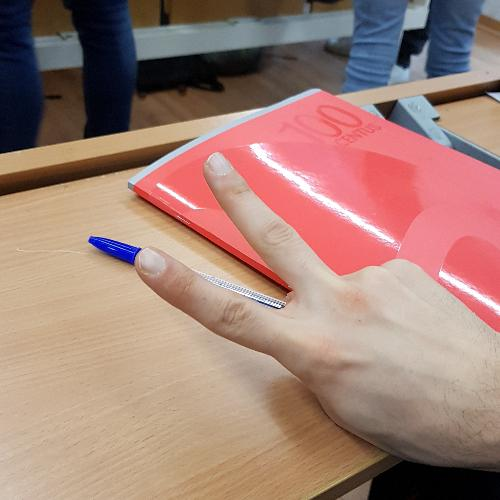scissors: (122, 146, 500, 469)
